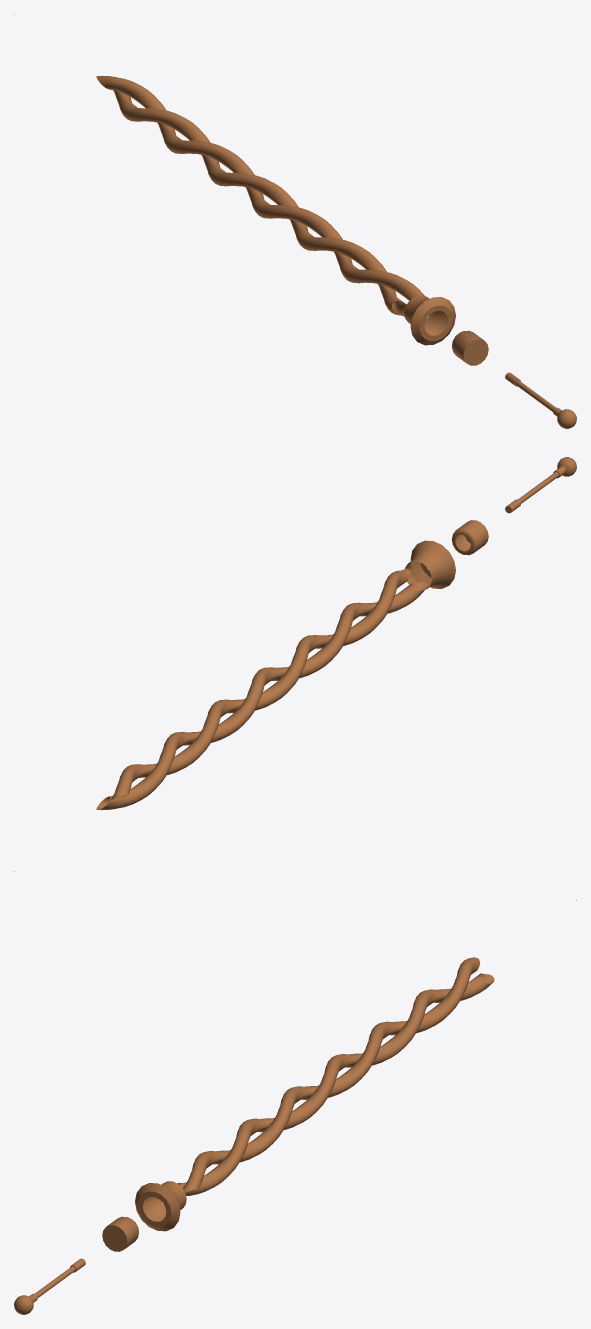
File: MeshFloorLamp_21_0_GeomSubset_0.obj
3 views of the same model, one above another, from view 1: azimuth 30°, elevation 25°; view 2: azimuth 150°, elevation 25°; view 3: azimuth 330°, elevation 25° (orthographic).
Visible parts, largest first — view 1: MeshFloorLamp_21_0_GeomSubset_0; view 2: MeshFloorLamp_21_0_GeomSubset_0; view 3: MeshFloorLamp_21_0_GeomSubset_0.
Part boxes in pixels (bbox=[...]): MeshFloorLamp_21_0_GeomSubset_0: bbox=[14, 14, 576, 428]; MeshFloorLamp_21_0_GeomSubset_0: bbox=[14, 457, 576, 871]; MeshFloorLamp_21_0_GeomSubset_0: bbox=[14, 900, 576, 1314].
Bounding box in the file's own units: 0.0884 × 0.0884 × 1.87.
